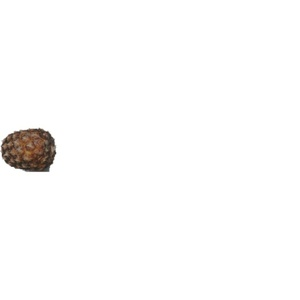abacaxi: (1, 118, 59, 180)
